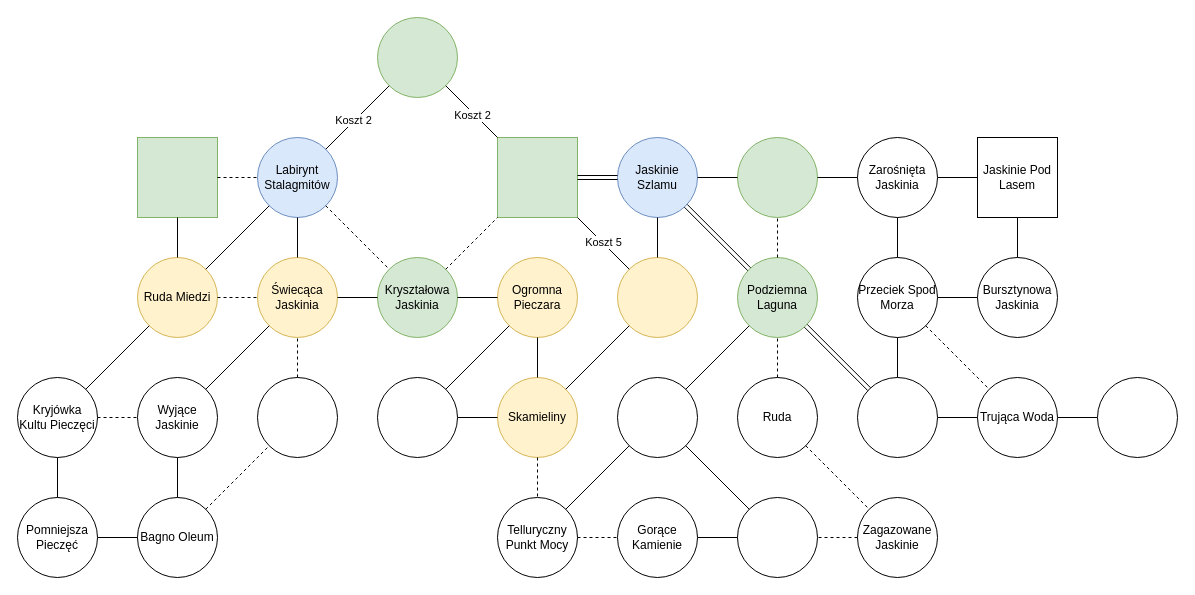
Some shapes in this 1195 by 595 pixel diagram are drawn without their labels. The box of each missing label's shape, as (x1, y1, x2, y2) in pixels:
Gniazdo Termitów: (736, 496, 818, 578)
Jaskinie Guano: (736, 136, 818, 218)
Jaskinie Przy Kopalni: (136, 136, 218, 218)
Kanion: (496, 136, 578, 218)
Legowiska Troglodytów: (616, 256, 698, 338)
Porzucona Skrytka: (1096, 376, 1178, 458)
Przeciek Wodny: (376, 16, 458, 98)
Przecieki Oleum: (376, 376, 458, 458)
Strefa Termitów: (616, 376, 698, 458)
Wielki Lingolej: (256, 376, 338, 458)
Wodospad: (856, 376, 938, 458)
